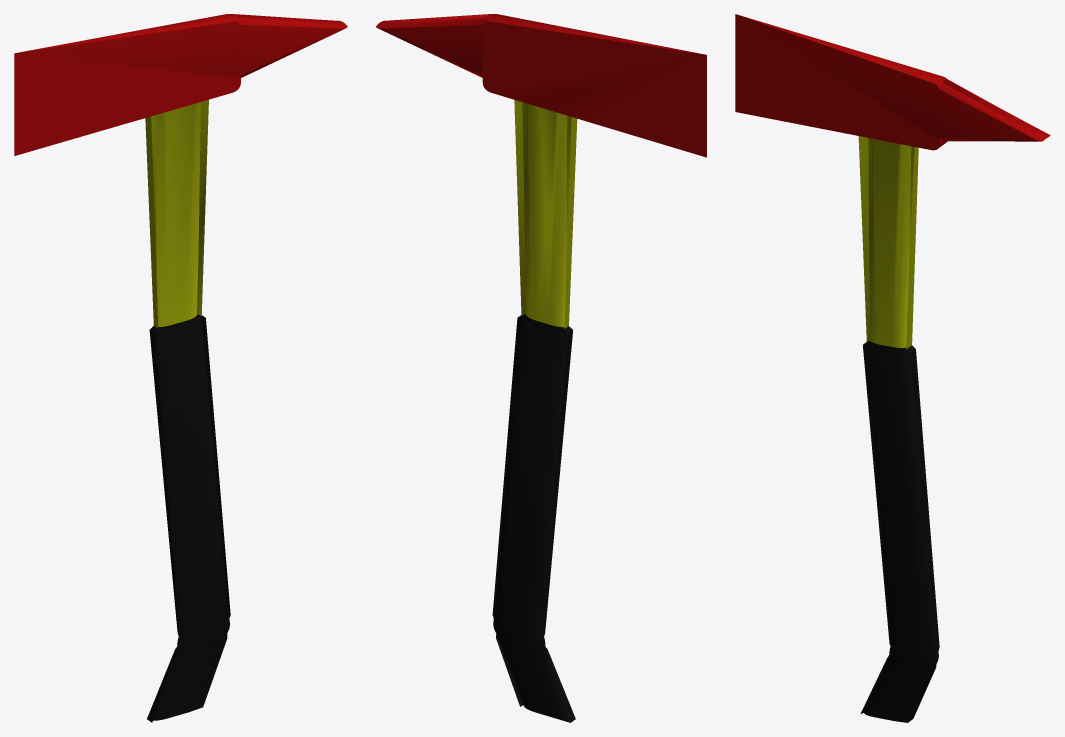
Rendered from Axe.FBX.
The picture shows the model from 3 angles, left to right: view 1: azimuth 30°, elevation 25°; view 2: azimuth 150°, elevation 25°; view 3: azimuth 330°, elevation 25°; orthographic projection. The views are drawn at different scales.
Visible parts, largest first — view 1: FireAxe; view 2: FireAxe; view 3: FireAxe.
Boxes of the visible parts, x1=… form: FireAxe: x1=14, y1=14, x2=347, y2=722; FireAxe: x1=376, y1=14, x2=706, y2=722; FireAxe: x1=735, y1=14, x2=1050, y2=722.
Size of the model in its own units: 158 by 322 by 8.45.
